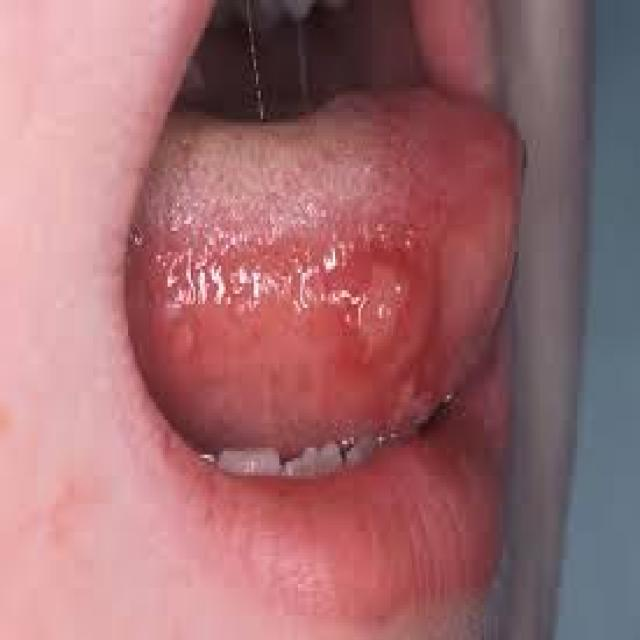processing_area: (111, 86, 519, 453)
ulcer-detection: (308, 212, 450, 436)
